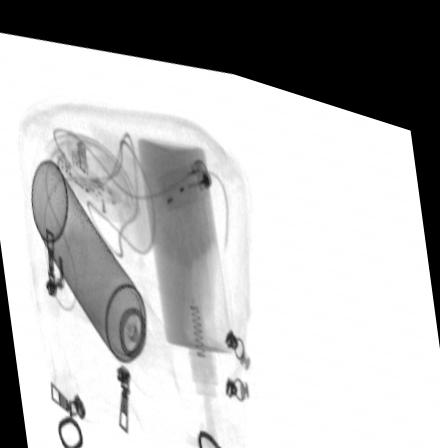Lighter: (154, 149, 216, 202)
Sprayer: (31, 158, 174, 390)
